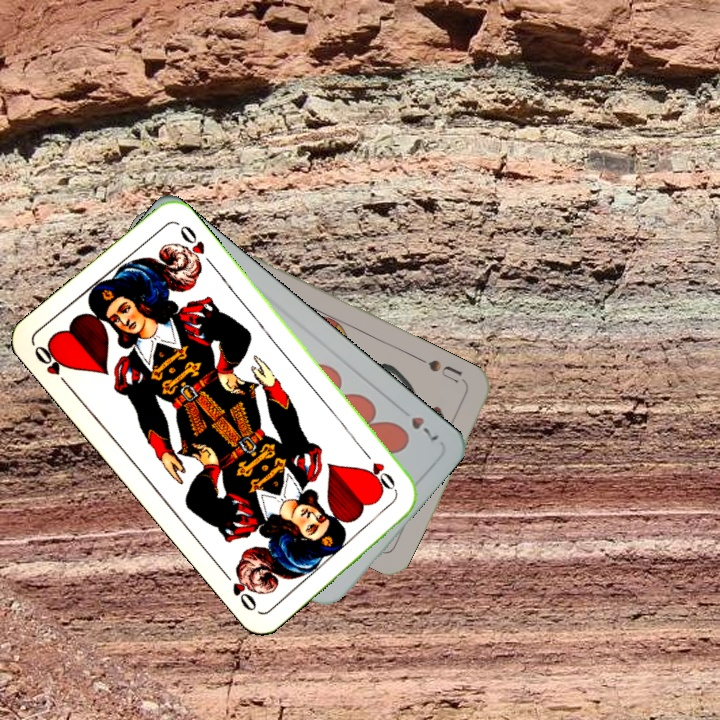H7: (406, 412, 442, 444)
HO: (30, 339, 73, 391), (358, 445, 400, 495)
SU: (424, 355, 470, 391)
